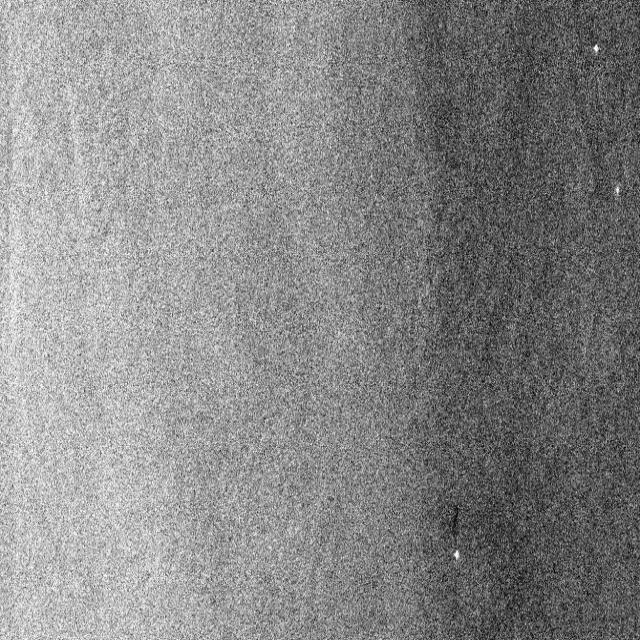oil-spill: (444, 498, 464, 548)
ship: (612, 176, 625, 204), (590, 38, 601, 60), (452, 547, 462, 566)
